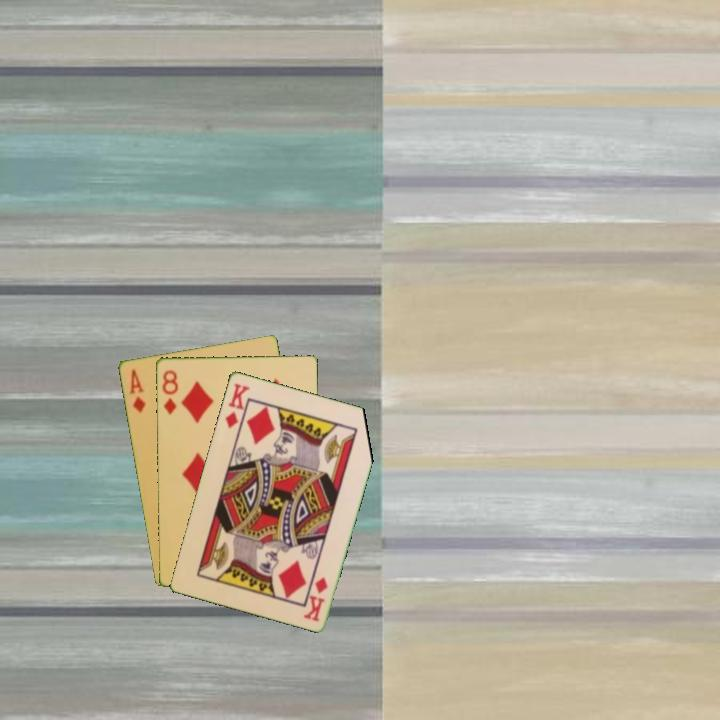8d: (159, 367, 180, 417)
Ad: (125, 365, 148, 416)
Kd: (221, 379, 253, 431), (301, 573, 331, 624)
